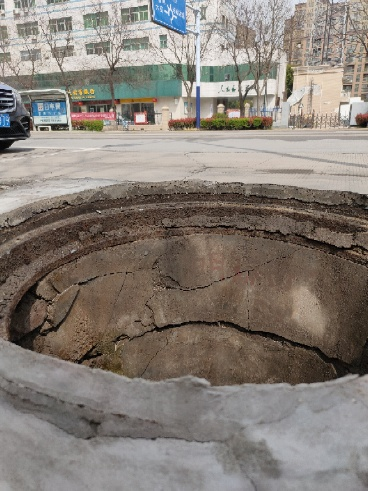lose: (3, 165, 368, 424)
